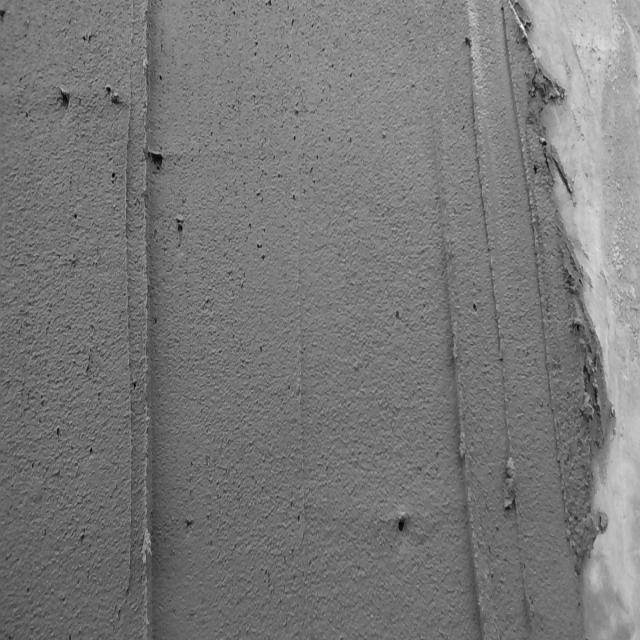trowels marks: (438, 17, 544, 638), (122, 0, 164, 636)
